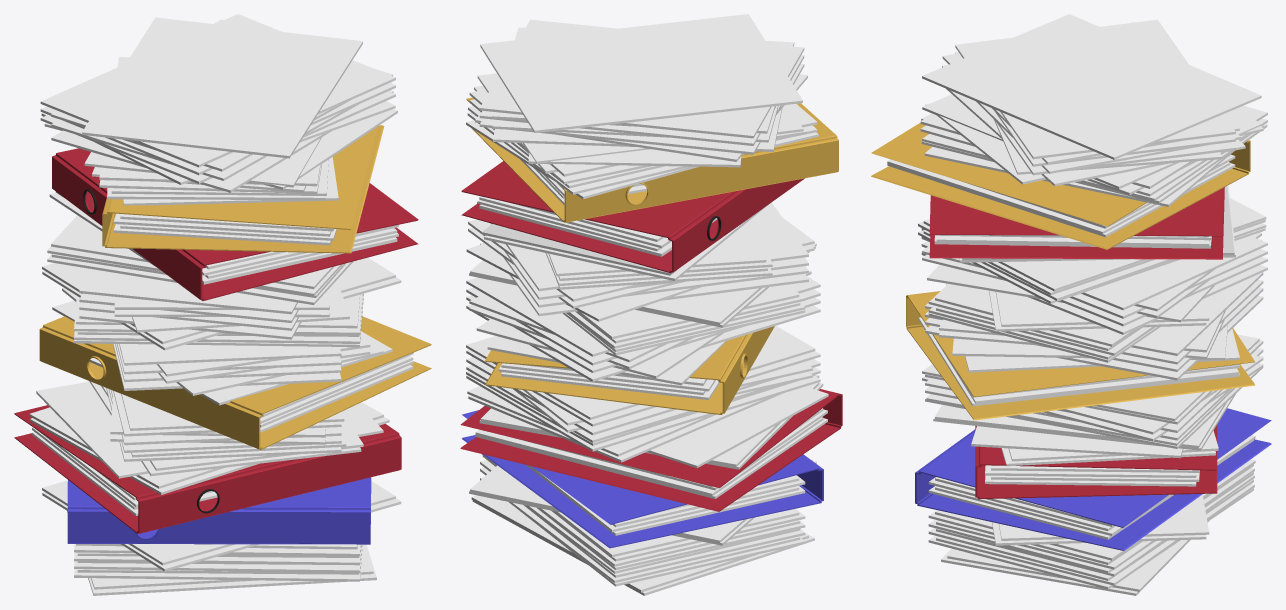
The model's file is documents_2.fbx.
3 renders of one model, left to right at view 1: azimuth 30°, elevation 25°; view 2: azimuth 150°, elevation 25°; view 3: azimuth 270°, elevation 25°, orthographic. The views are drawn at different scales.
Visible parts, largest first — view 1: Cube.087, 平面, 平面.002, 平面.001, 平面.005, 平面.004, Cube.088, Cube.014, Cube.066, Cube.039, Cube.053, Cube.058 (+69 smaller); view 2: Cube.087, 平面.004, 平面, 平面.005, 平面.001, 平面.002, Cube.088, Cube.014, Cube.066, Cube.039, Cube.032, Cube.053 (+75 smaller); view 3: Cube.087, 平面.005, 平面.001, 平面.002, 平面.004, 平面, Cube.088, Cube.066, Cube.014, Cube.058, Cube.039, Cube.053 (+78 smaller).
Boxes of the visible parts, x1=… form: Cube.087: x1=82, y1=17, x2=362, y2=158; 平面: x1=14, y1=405, x2=401, y2=533; 平面.002: x1=39, y1=316, x2=431, y2=449; 平面.001: x1=67, y1=477, x2=371, y2=544; 平面.005: x1=102, y1=125, x2=384, y2=253; 平面.004: x1=52, y1=148, x2=418, y2=300; Cube.088: x1=40, y1=14, x2=395, y2=167; Cube.014: x1=36, y1=381, x2=383, y2=478; Cube.066: x1=79, y1=269, x2=297, y2=314; Cube.039: x1=119, y1=344, x2=341, y2=365; Cube.053: x1=42, y1=257, x2=395, y2=344; Cube.058: x1=51, y1=215, x2=334, y2=289; Cube.087: x1=480, y1=14, x2=802, y2=132; 平面.004: x1=461, y1=161, x2=804, y2=273; 平面: x1=460, y1=389, x2=842, y2=511; 平面.005: x1=466, y1=97, x2=838, y2=222; 平面.001: x1=462, y1=410, x2=823, y2=548; 平面.002: x1=485, y1=326, x2=774, y2=414; Cube.088: x1=479, y1=19, x2=804, y2=138; Cube.014: x1=647, y1=386, x2=828, y2=468; Cube.066: x1=477, y1=201, x2=808, y2=291; Cube.039: x1=466, y1=276, x2=820, y2=356; Cube.032: x1=466, y1=326, x2=815, y2=419; Cube.053: x1=470, y1=244, x2=812, y2=324; Cube.087: x1=922, y1=14, x2=1261, y2=159; 平面.005: x1=871, y1=122, x2=1250, y2=249; 平面.001: x1=915, y1=408, x2=1271, y2=550; 平面.002: x1=906, y1=291, x2=1255, y2=420; 平面.004: x1=929, y1=187, x2=1224, y2=259; 平面: x1=975, y1=425, x2=1217, y2=499; Cube.088: x1=955, y1=19, x2=1235, y2=159; Cube.066: x1=921, y1=228, x2=1267, y2=310; Cube.014: x1=971, y1=426, x2=1183, y2=458; Cube.058: x1=923, y1=198, x2=1266, y2=291; Cube.039: x1=925, y1=272, x2=1263, y2=355; Cube.053: x1=995, y1=292, x2=1209, y2=326.
Size of the model in its own units: 383 by 490 by 404.
